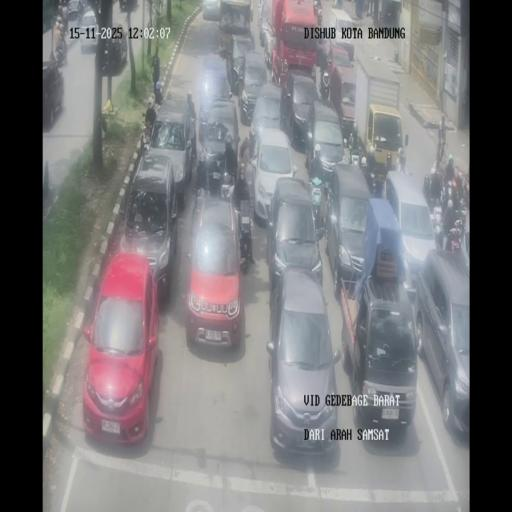3: (266, 0, 320, 86), (364, 104, 405, 184), (42, 1, 56, 34)
car: (82, 253, 160, 445), (267, 270, 339, 458), (414, 248, 469, 439), (120, 154, 179, 295), (383, 171, 439, 295), (326, 163, 374, 292), (306, 102, 344, 184), (198, 55, 232, 133), (249, 86, 284, 158), (227, 35, 256, 95), (41, 60, 64, 130), (329, 7, 356, 50), (79, 9, 98, 53), (258, 0, 273, 54), (66, 0, 83, 23), (202, 0, 220, 21)
truck: (189, 188, 207, 255), (308, 172, 326, 232), (238, 214, 254, 270), (431, 204, 446, 246), (359, 154, 374, 195), (442, 176, 459, 212), (426, 166, 442, 204), (445, 223, 463, 255), (220, 168, 236, 202), (371, 162, 386, 198), (435, 132, 448, 168), (348, 138, 363, 166), (54, 38, 68, 67), (140, 122, 152, 154), (396, 154, 410, 177), (320, 73, 330, 102), (154, 79, 164, 105), (312, 0, 322, 24), (61, 2, 68, 30), (100, 113, 107, 140)
